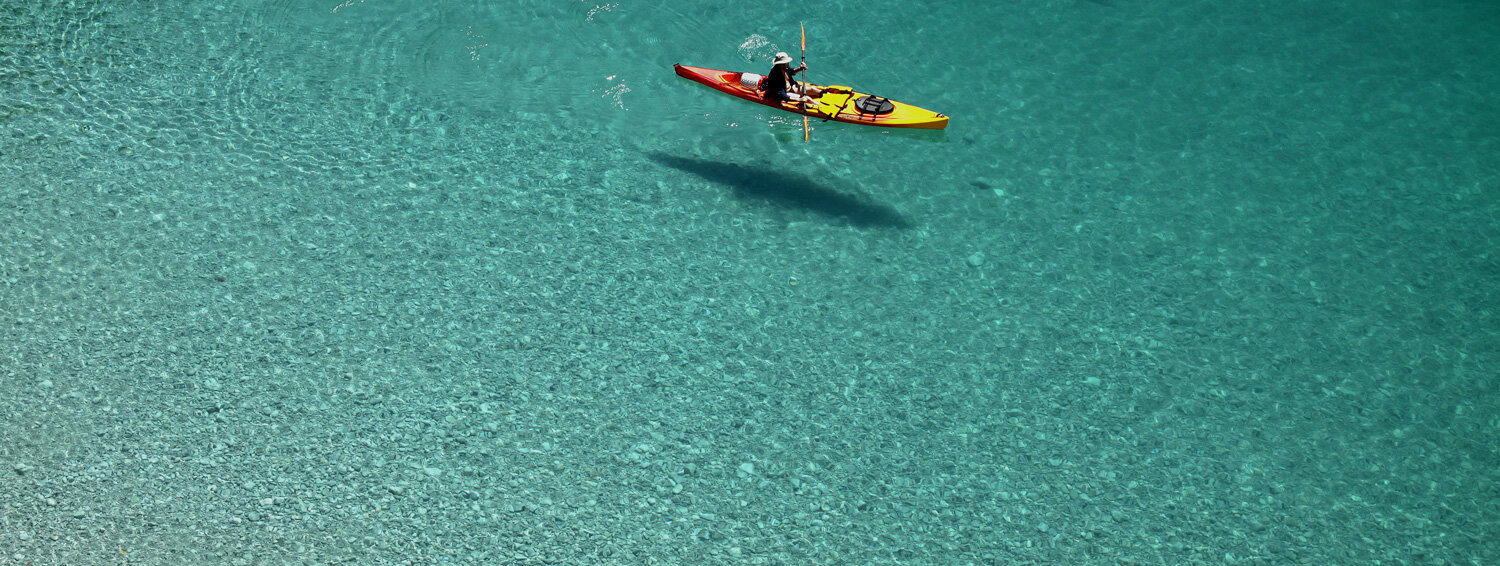kayaker: (672, 18, 953, 157)
